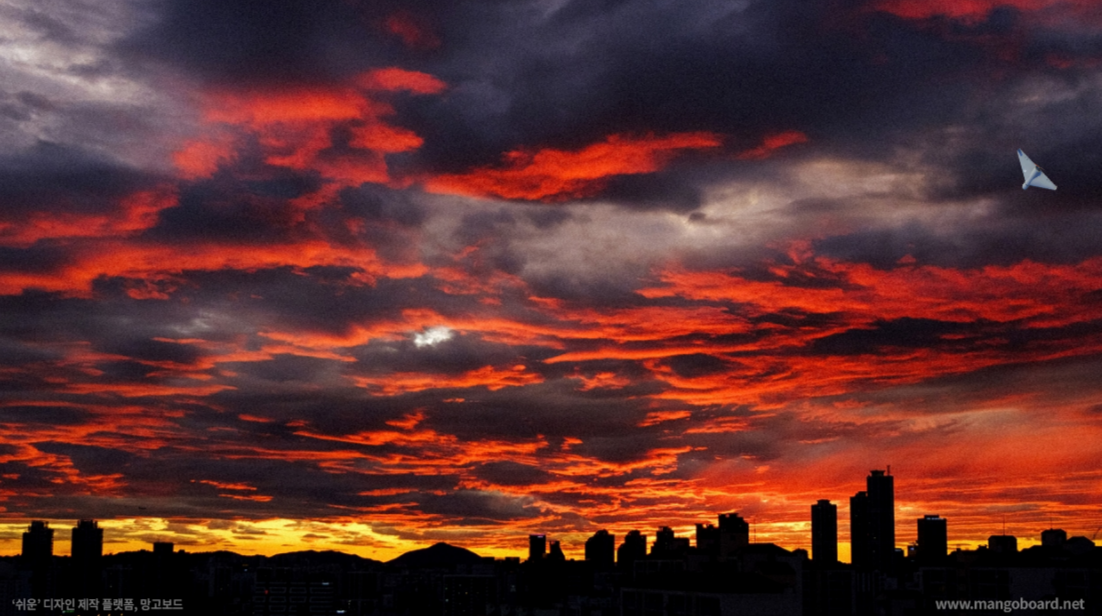military drone: (1016, 147, 1057, 190)
